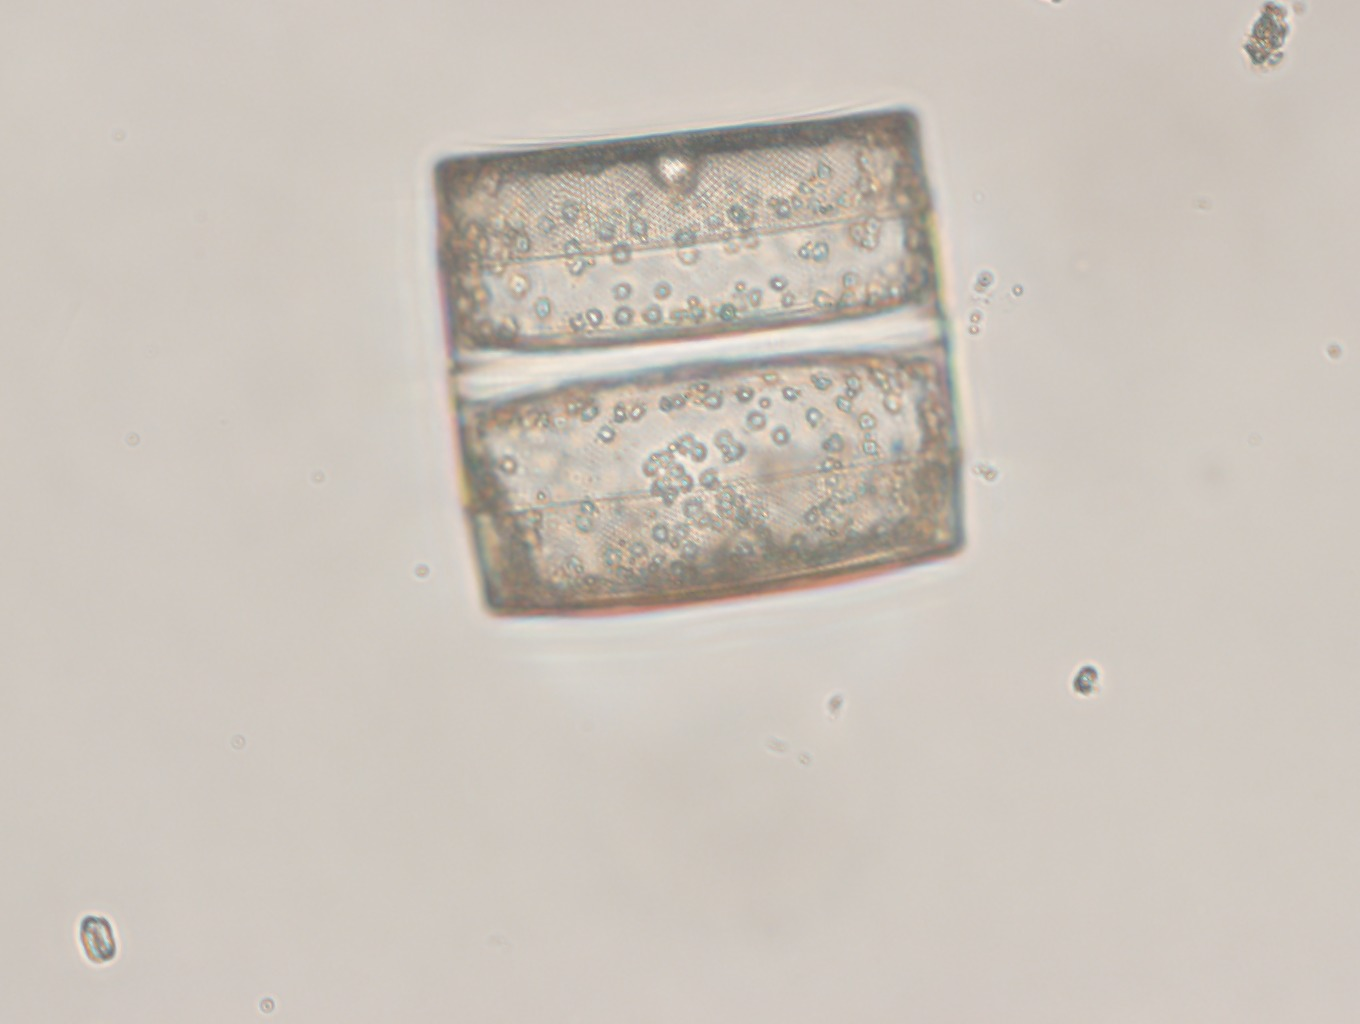coscinodiscus flank: (395, 95, 983, 631)
